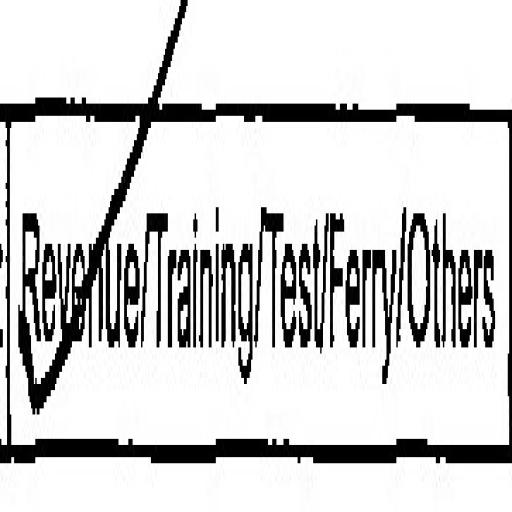check: (0, 0, 149, 498)
